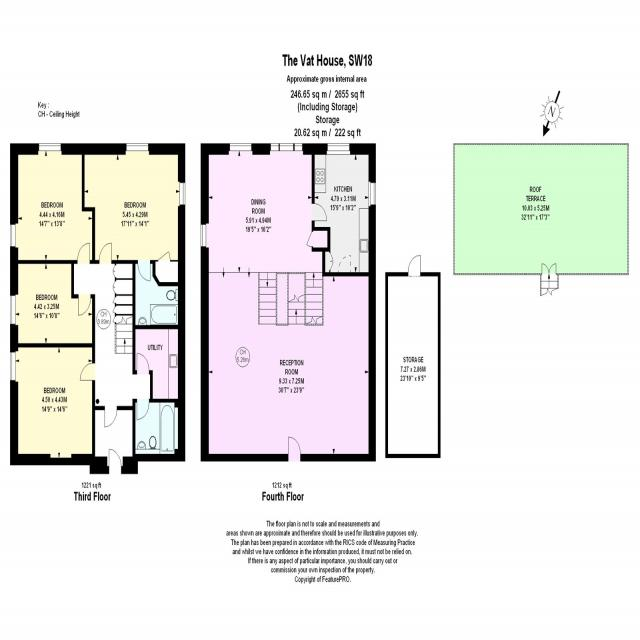DOOR: (286, 434, 304, 462), (104, 404, 119, 429), (136, 397, 151, 422), (312, 202, 329, 223), (109, 448, 122, 475), (137, 259, 152, 282), (79, 361, 96, 381), (136, 351, 150, 375), (78, 293, 92, 317), (77, 242, 90, 264), (99, 242, 112, 264)
ROOM: (82, 143, 185, 283), (10, 343, 95, 466), (10, 143, 96, 264), (312, 143, 376, 277), (10, 260, 95, 348)
WINDOW: (269, 142, 303, 153), (326, 142, 351, 156), (229, 141, 252, 152), (199, 222, 208, 249), (368, 180, 376, 208), (38, 143, 61, 152), (126, 143, 149, 152), (10, 295, 16, 325), (10, 351, 16, 381), (179, 182, 186, 205), (10, 224, 16, 248)
